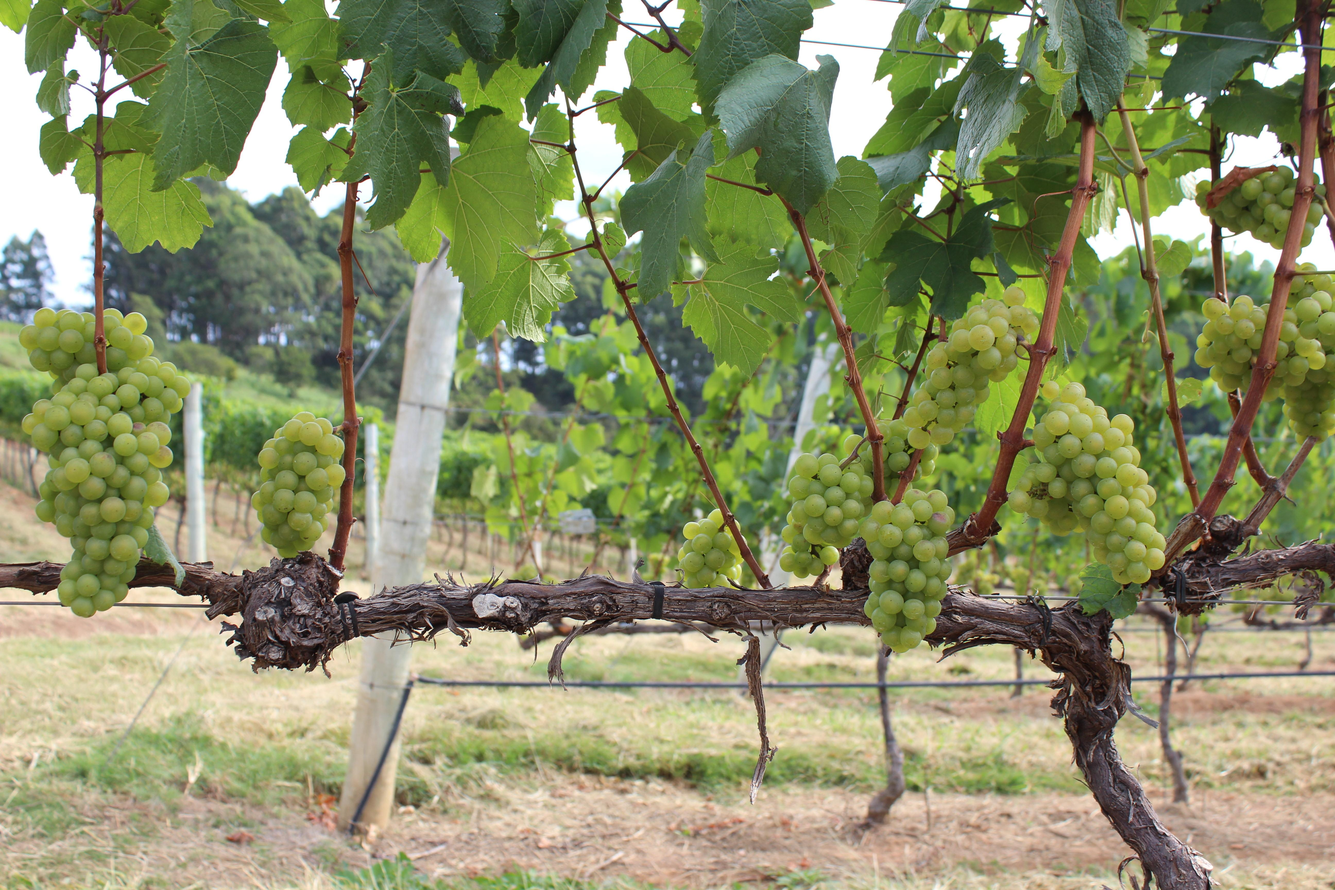leaf: (143, 15, 277, 190), (344, 50, 461, 228), (715, 55, 838, 214), (440, 116, 539, 288), (620, 130, 719, 301), (682, 243, 801, 374), (691, 0, 813, 112), (464, 229, 575, 342), (1161, 0, 1276, 101), (103, 152, 211, 252), (339, 0, 467, 83), (1046, 0, 1132, 121), (525, 0, 608, 119), (706, 153, 793, 249), (624, 37, 695, 121), (269, 0, 340, 70), (282, 66, 351, 132), (102, 15, 171, 79), (285, 126, 348, 192), (439, 0, 506, 62), (24, 0, 76, 73), (1078, 564, 1141, 619), (844, 260, 888, 336), (39, 115, 82, 175), (36, 59, 79, 117), (0, 0, 30, 33), (131, 72, 162, 97), (599, 33, 610, 58), (649, 30, 666, 45), (580, 83, 588, 88), (1178, 44, 1182, 53), (612, 23, 615, 33), (521, 18, 523, 26), (1069, 108, 1074, 110), (974, 55, 977, 58), (588, 78, 591, 81), (548, 4, 556, 5), (173, 6, 175, 9), (178, 0, 180, 3), (1234, 0, 1236, 2), (197, 0, 199, 2), (525, 169, 526, 173), (1165, 81, 1166, 84), (674, 294, 675, 296), (182, 16, 183, 18), (525, 164, 526, 166), (581, 79, 582, 79), (595, 69, 595, 71)
